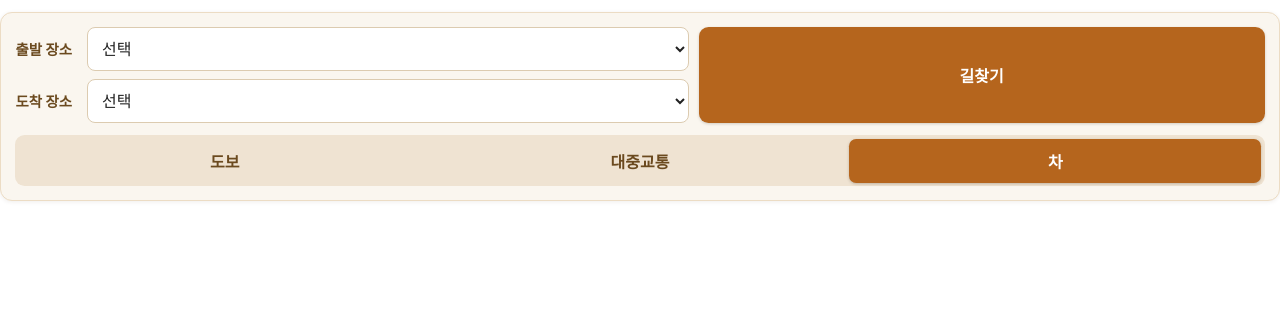
Test: DirectionsPanel fallback notice (A11) › shows a clear TMAP/no-route message when walk falls back to straight line
Click the button "도보".
click(225, 161)  # box top-left (19, 139), bottom-right (431, 183)
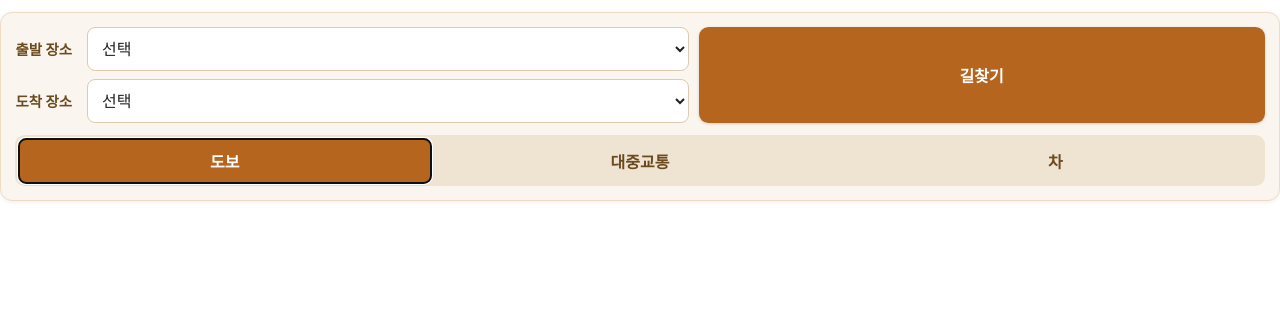
Select "성수 베이커리" in the dropdown labelled "출발 장소" at [388, 49], box top-left (87, 27), bottom-right (689, 71)
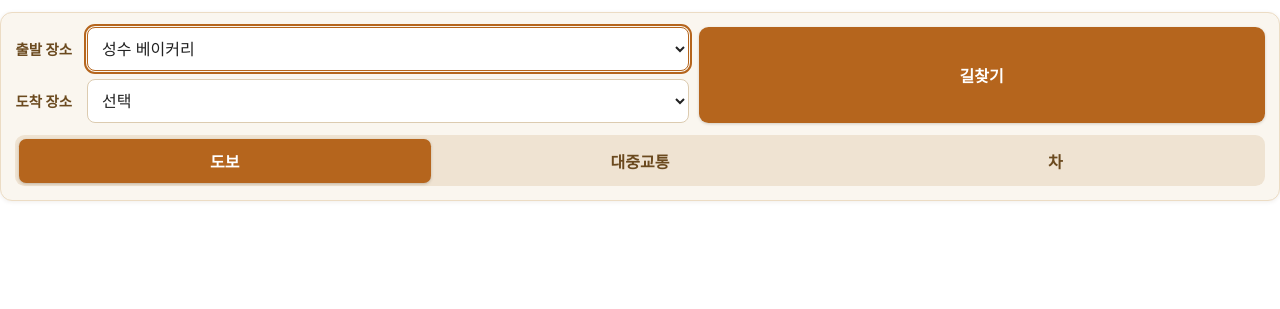
Select "연남 식당" in the dropdown labelled "도착 장소" at [388, 101], box top-left (87, 79), bottom-right (689, 123)
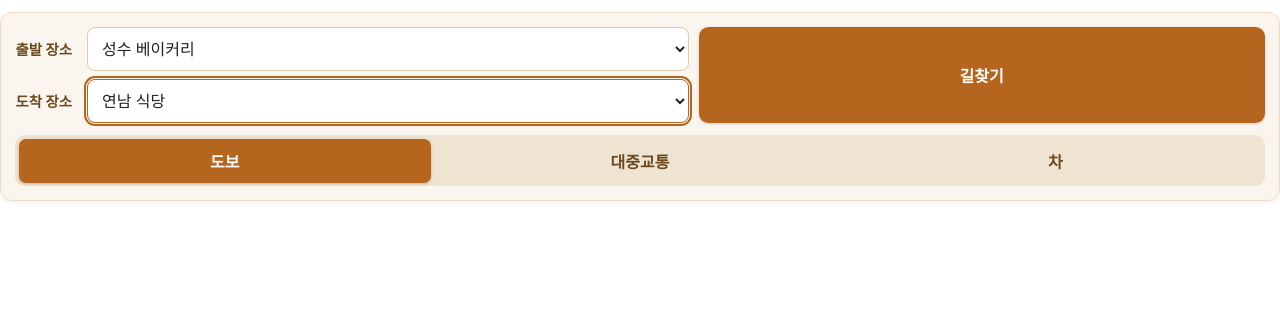
Click the button "길찾기".
click(982, 75)  # box top-left (698, 27), bottom-right (1265, 123)
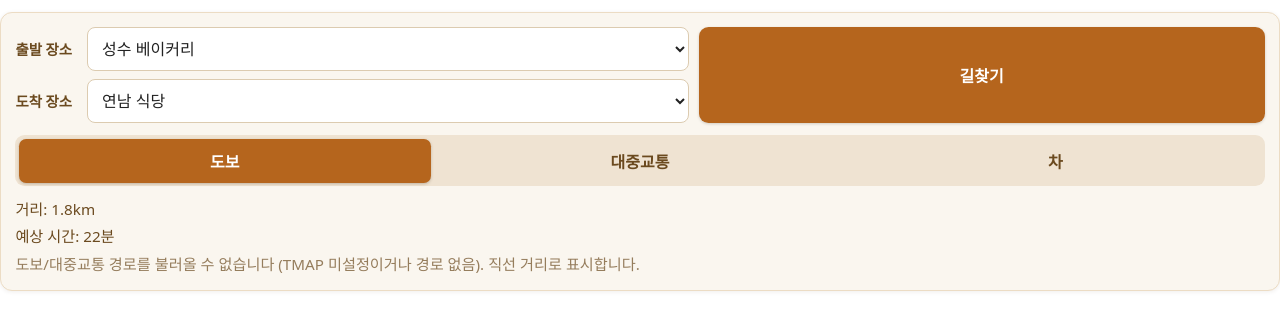
expect the text with test id "route-fallback" shows "TMAP 미설정": met, box top-left (15, 254), bottom-right (640, 274)
expect the text with test id "route-fallback" shows "직선 거리": met, box top-left (15, 254), bottom-right (640, 274)
expect the text with test id "route-distance" shows "1.8km": met, box top-left (51, 199), bottom-right (95, 219)
